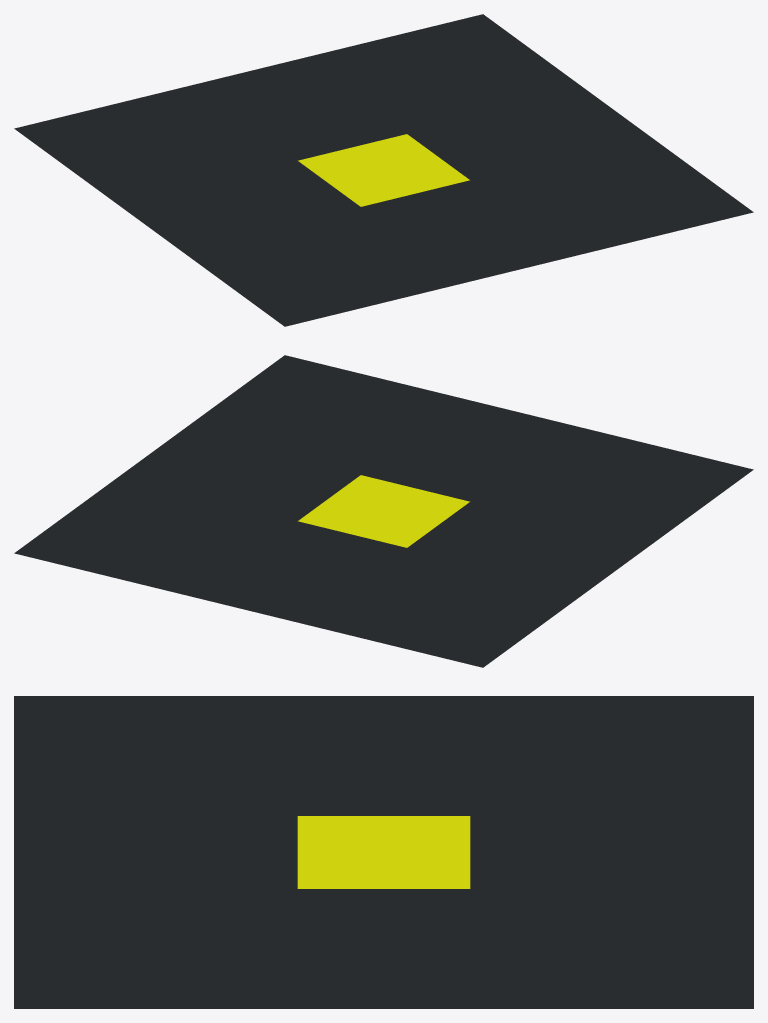
File: road6.glb
3 renders of one model, top to bottom at view 1: azimuth 30°, elevation 25°; view 2: azimuth 150°, elevation 25°; view 3: azimuth 270°, elevation 25°, orthographic. The views are drawn at different scales.
Parts seen in each view (by area): view 1: Road6; view 2: Road6; view 3: Road6.
Boxes of the visible parts, x1,y1,x2,y2 form: Road6: [14, 14, 753, 326]; Road6: [14, 355, 753, 667]; Road6: [14, 696, 753, 1008].
Size of the model in its own units: 2 by 0 by 2.
